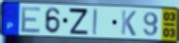6: (44, 6, 63, 35)
9: (142, 11, 160, 37)
E: (20, 6, 43, 34)
I: (92, 8, 99, 37)
K: (120, 9, 138, 37)
Z: (68, 7, 90, 36)
